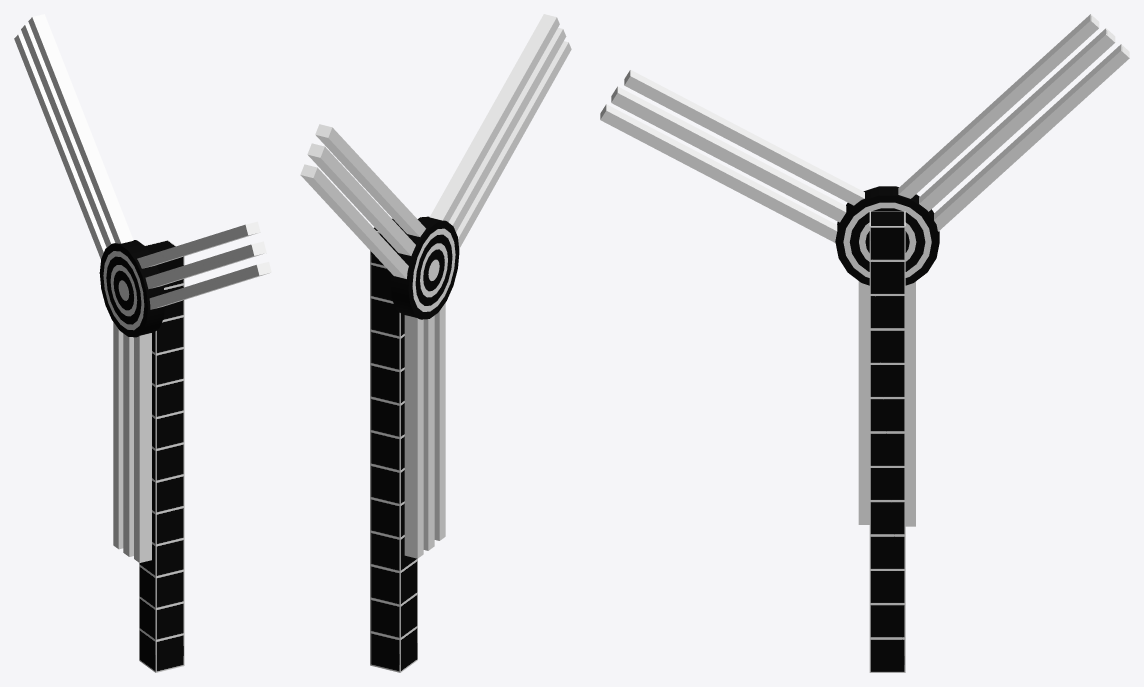
The model's file is Fan.fbx.
The picture shows the model from 3 angles, left to right: view 1: azimuth 30°, elevation 25°; view 2: azimuth 150°, elevation 25°; view 3: azimuth 270°, elevation 25°; orthographic projection. The views are drawn at different scales.
Parts seen in each view (by area): view 1: Cylinder.001, Cube; view 2: Cylinder.001, Cube; view 3: Cylinder.001, Cube.
Boxes of the visible parts, <box> form: Cylinder.001: <box>14,14,271,562</box>; Cube: <box>139,240,184,672</box>; Cylinder.001: <box>300,14,571,558</box>; Cube: <box>370,218,417,672</box>; Cylinder.001: <box>600,14,1129,526</box>; Cube: <box>869,211,905,672</box>.
Size of the model in its own units: 26.49 by 283 by 215.
